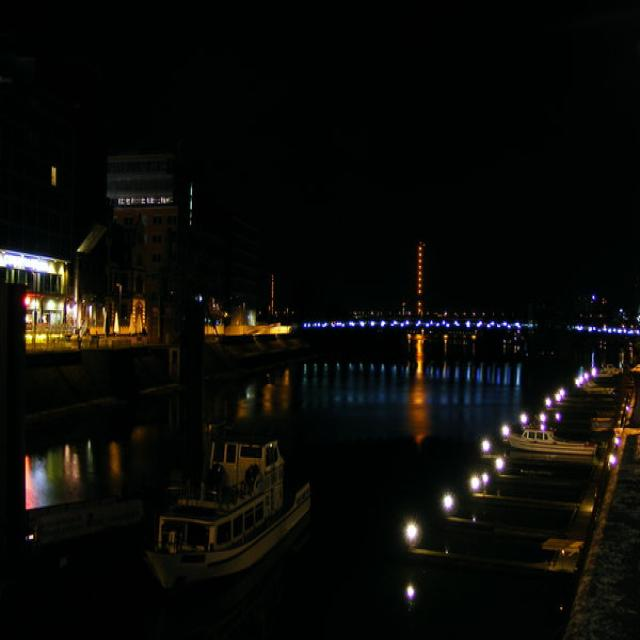Boat: (157, 427, 346, 583), (408, 519, 576, 586), (457, 475, 607, 529), (499, 416, 615, 473)
